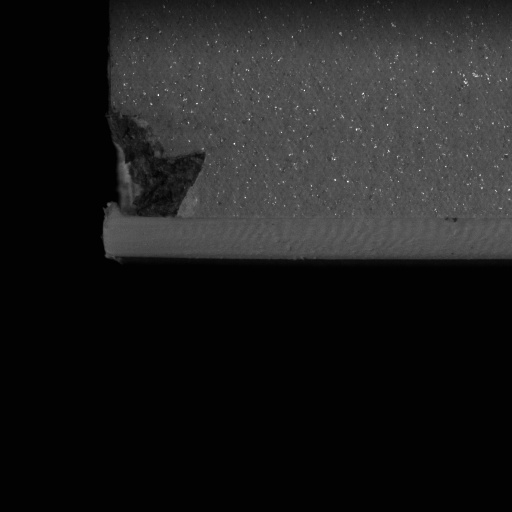bengque: (108, 106, 208, 221)
